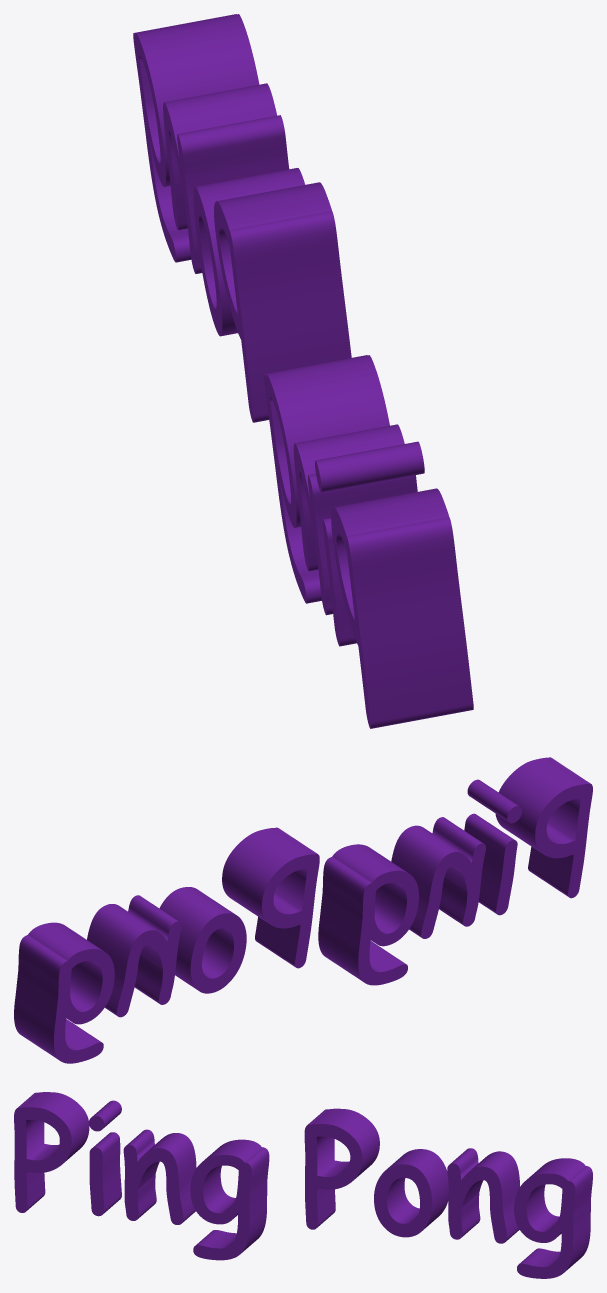
Rendered from sign.obj.
3 renders of one model, top to bottom at view 1: azimuth 30°, elevation 25°; view 2: azimuth 150°, elevation 25°; view 3: azimuth 270°, elevation 25°, orthographic. The views are drawn at different scales.
Parts seen in each view (by area): view 1: Text; view 2: Text; view 3: Text.
Boxes of the visible parts, box(x1,y1,x2,y2) form: Text: box(133, 14, 473, 728); Text: box(14, 757, 592, 1063); Text: box(14, 1092, 592, 1278).
Bounding box in the file's own units: 1.95 × 1.26 × 4.4.
